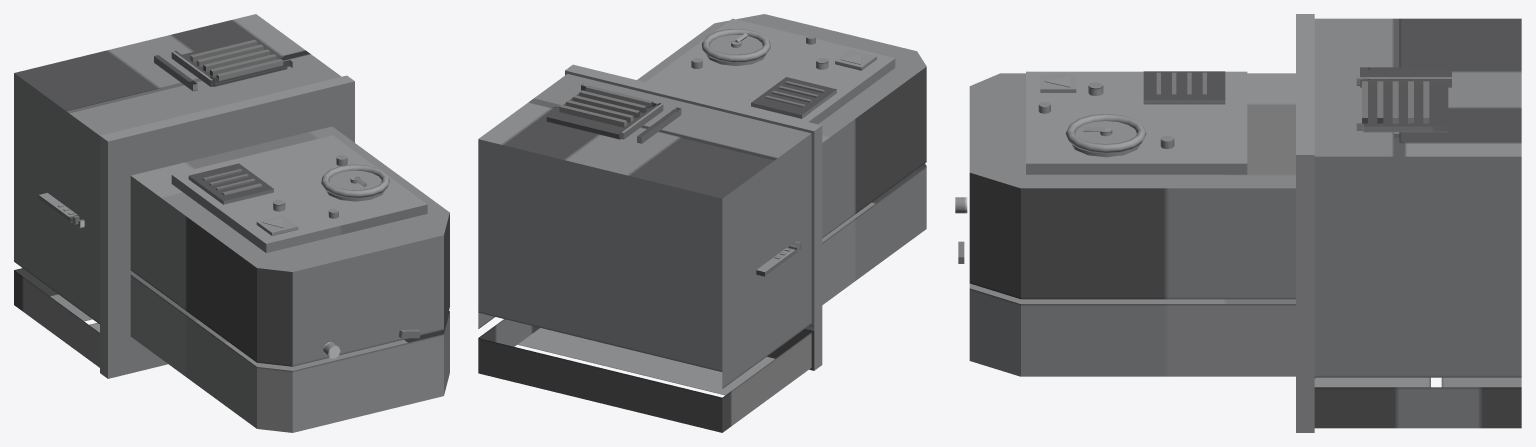
3 views of the same model, side by side, from view 1: azimuth 30°, elevation 25°; view 2: azimuth 150°, elevation 25°; view 3: azimuth 270°, elevation 25° (orthographic). The views are drawn at different scales.
Bounding box in the file's own units: 1 × 0.94 × 1.66.
